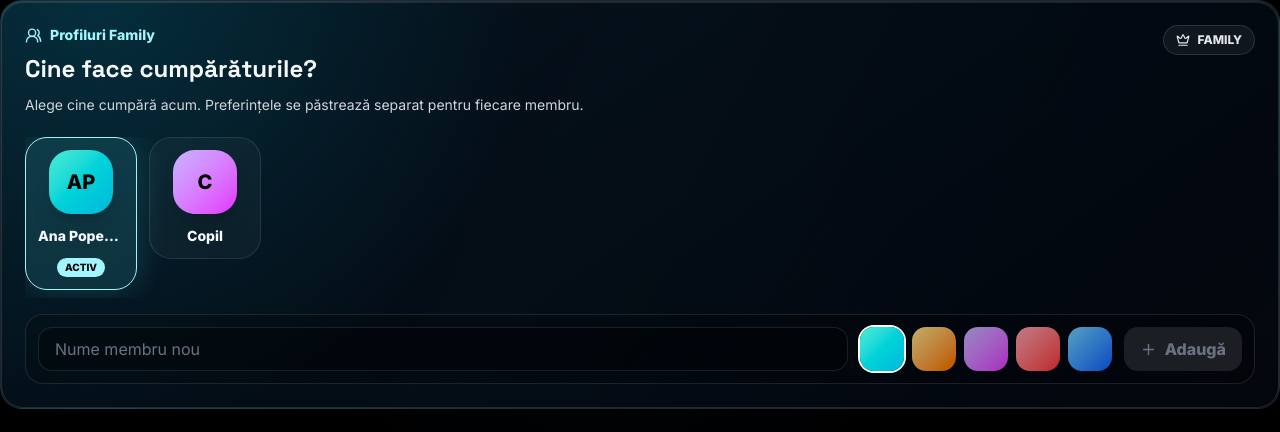
Test: FamilyProfiles › selects, deletes and creates profiles for a Family account
Click the button "C Copil" at (205, 198), box [149,137,261,259]
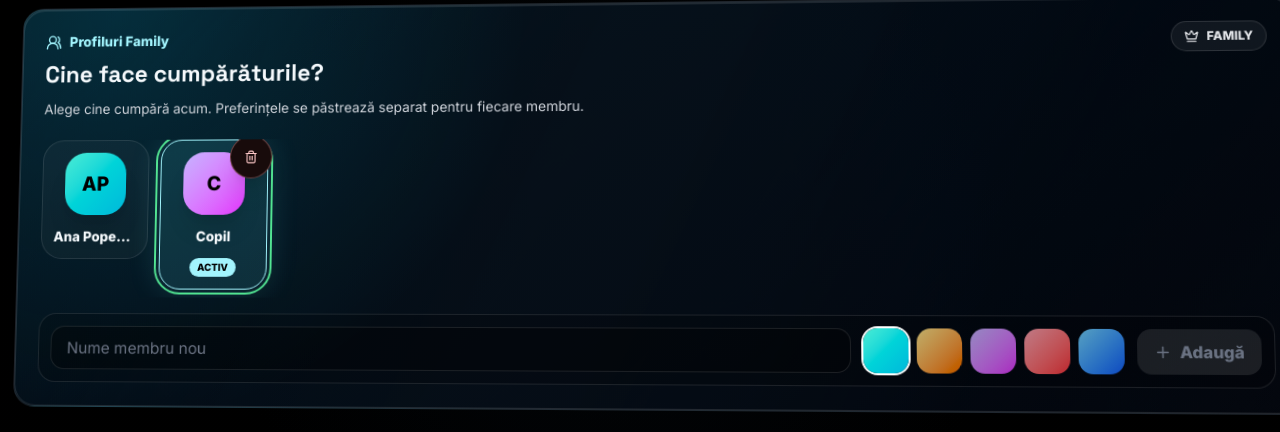
expect the button "C Copil activ" is pressed: met, box [158,139,269,290]
Click the button named "Șterge profilul Copil" at (251, 157), box [230,135,273,178]
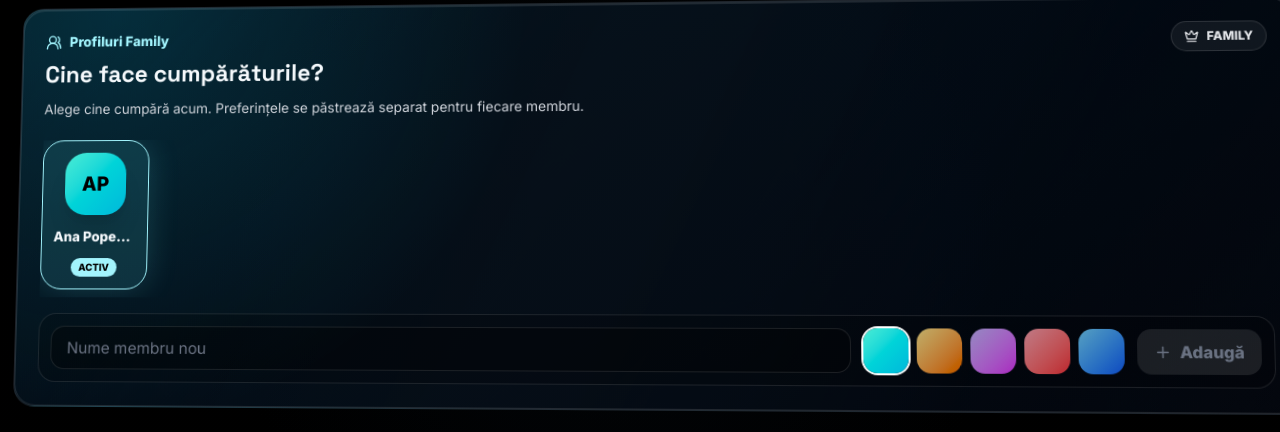
expect the button "Copil" is gone: met
Type "Mara" into the field named "Numele membrului nou" at (450, 349), box [50,326,851,373]
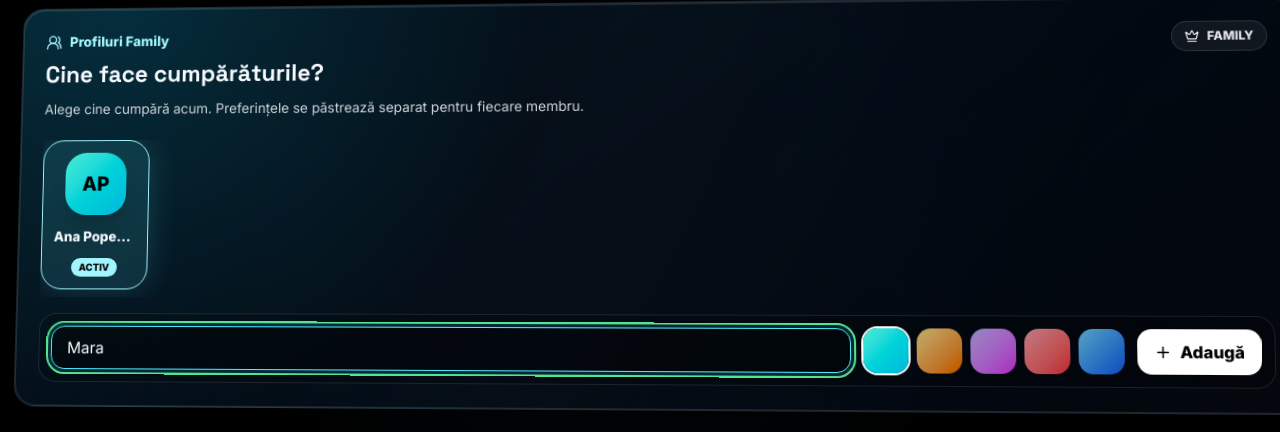
Click the button "Adaugă" at (1200, 352), box [1137,329,1263,375]
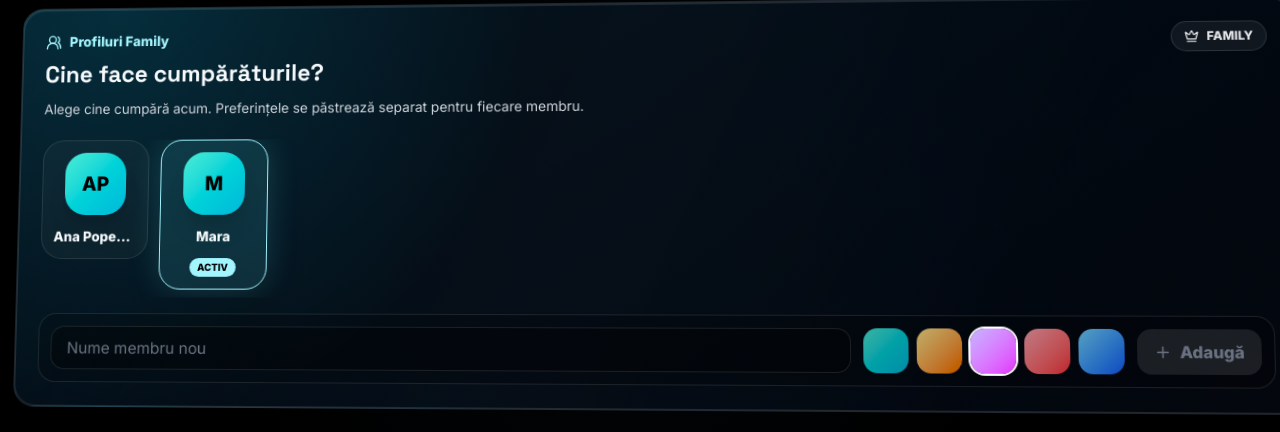
expect the text "Mara" is shown: met, box [196,227,230,246]
expect the field named "Numele membrului nou" is empty: met, box [50,326,851,373]
